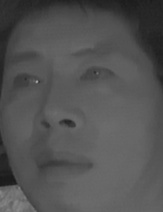eye: (74, 64, 116, 87), (6, 70, 44, 92)
mouth: (32, 145, 93, 183)
